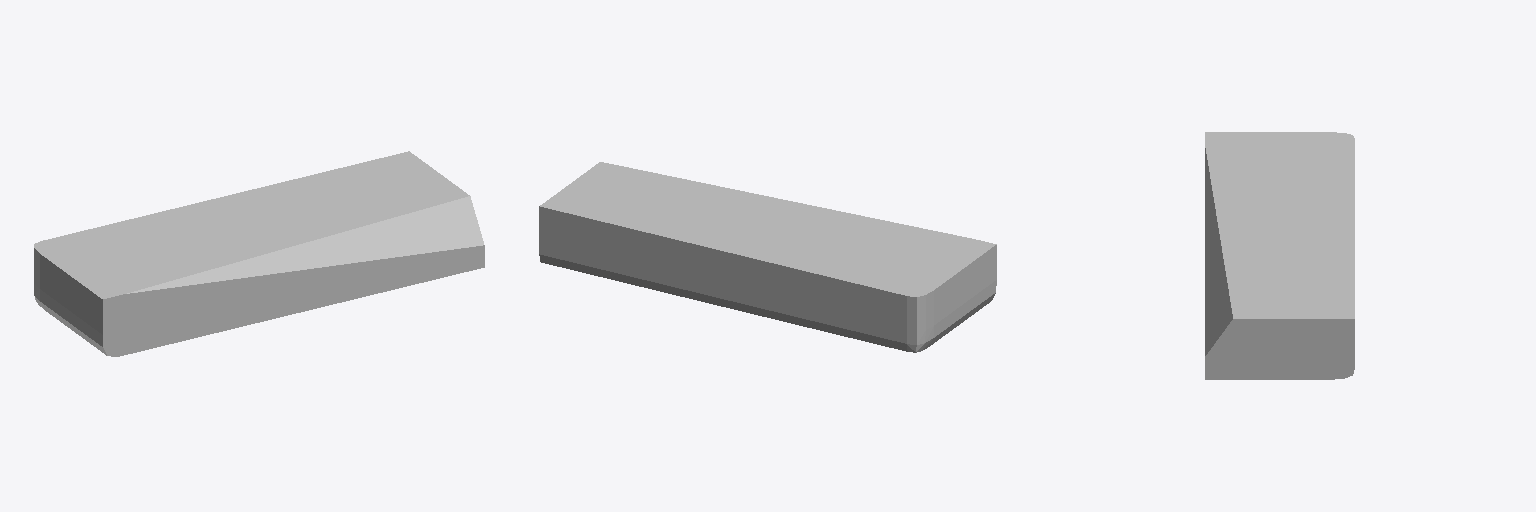
File: Cart_pocket_collision_11.obj
The picture shows the model from 3 angles: view 1: azimuth 30°, elevation 25°; view 2: azimuth 150°, elevation 25°; view 3: azimuth 270°, elevation 25°; orthographic projection.
Bounding box in the file's own units: 0.2391 × 0.0366 × 0.0817.